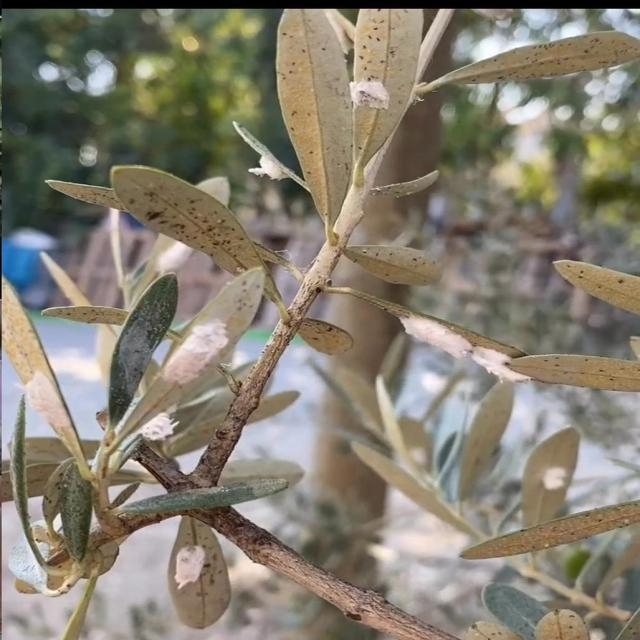Psyllid: (124, 268, 266, 428), (382, 304, 546, 384), (167, 532, 226, 626), (23, 371, 77, 439), (244, 136, 304, 187), (526, 464, 574, 506), (136, 412, 179, 442), (350, 79, 389, 110), (154, 241, 184, 276)
